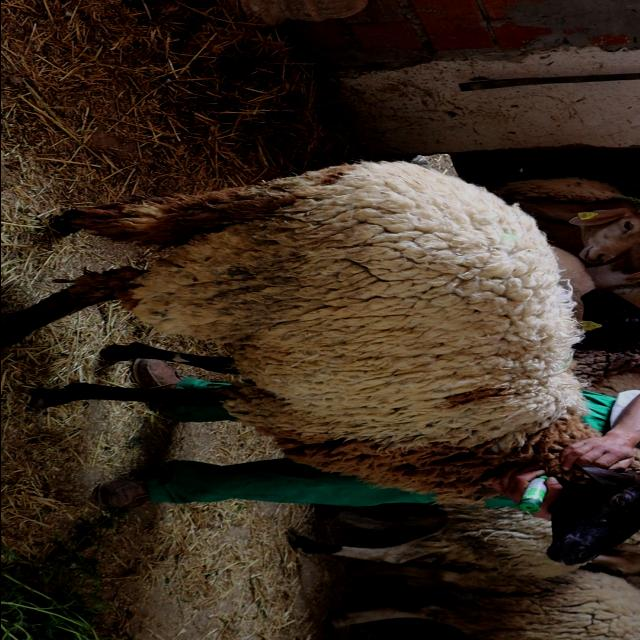Score_5: (1, 161, 640, 565)
